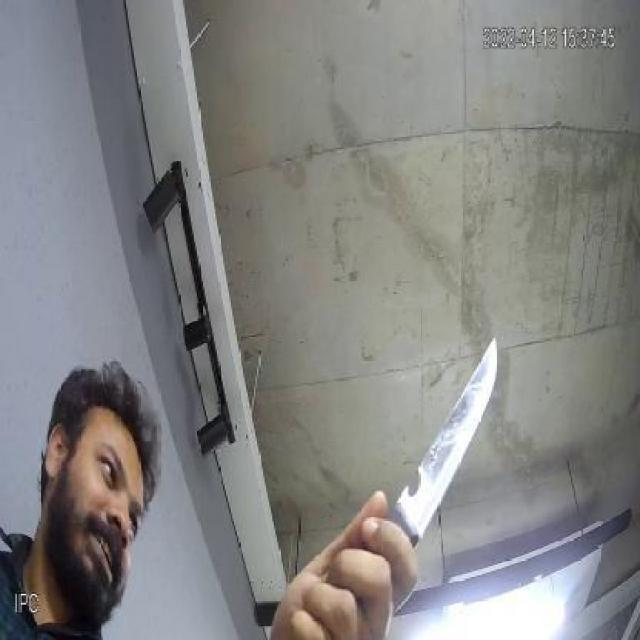-: (382, 333, 508, 536)
